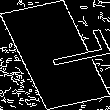L_W: (12, 33, 98, 77)
